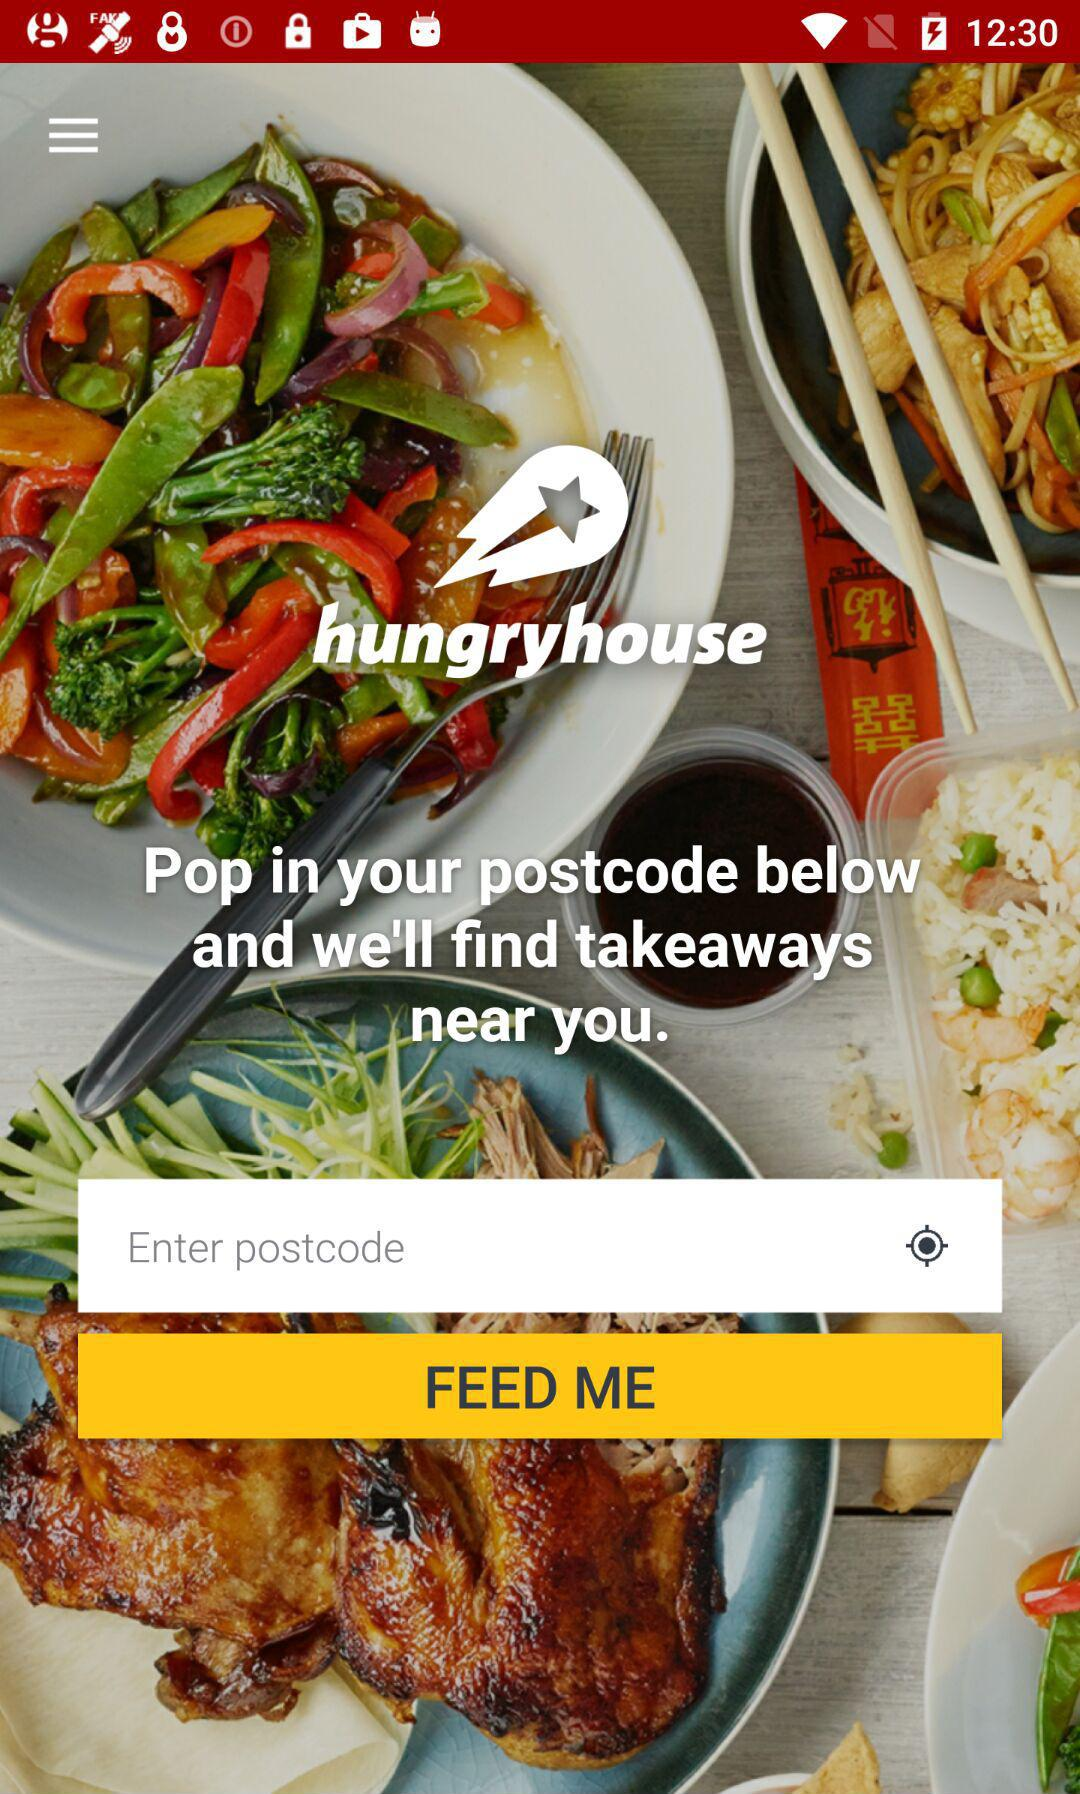BackgroundImage: (1, 64, 1080, 1794)
EditText: (77, 1179, 1004, 1315)
Icon: (47, 117, 100, 156), (904, 1224, 949, 1269)
Image: (432, 443, 632, 591)
Text: (145, 844, 922, 1057), (313, 601, 767, 680), (129, 1230, 405, 1272)
TextButton: (79, 1333, 1003, 1439)
UpperTaskBar: (1, 1, 1080, 64)
